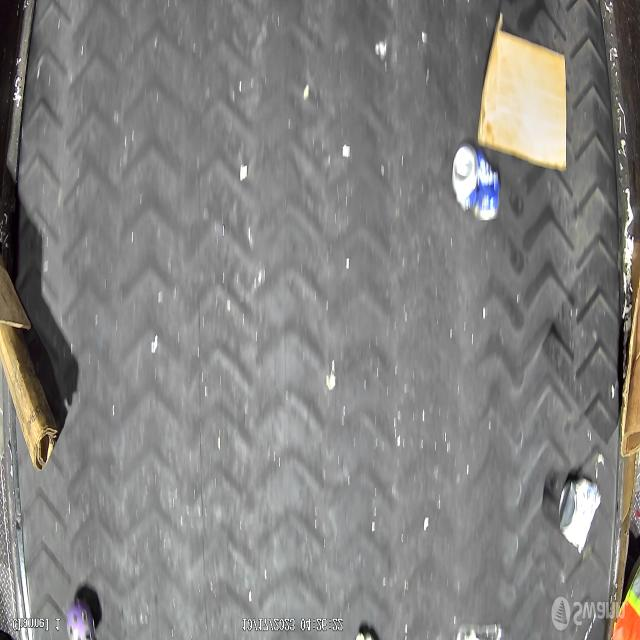can: (451, 142, 500, 223), (560, 477, 602, 552)
